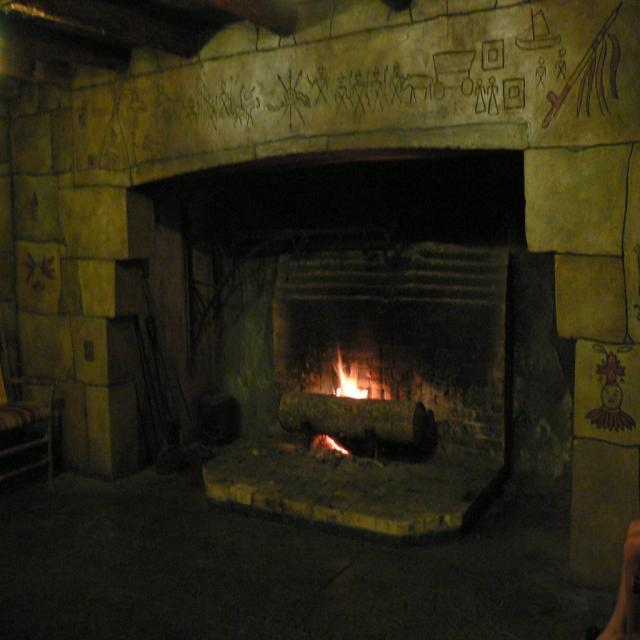fire: (329, 351, 365, 408)
